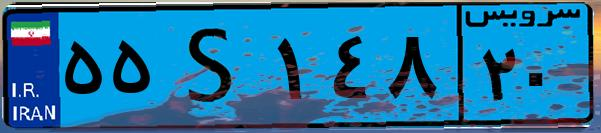0: (525, 38, 570, 115)
1: (270, 28, 330, 110)
2: (475, 38, 525, 113)
4: (330, 28, 385, 110)
5: (57, 26, 110, 100), (110, 28, 158, 98)
8: (385, 28, 445, 110)
S: (158, 12, 270, 120)
